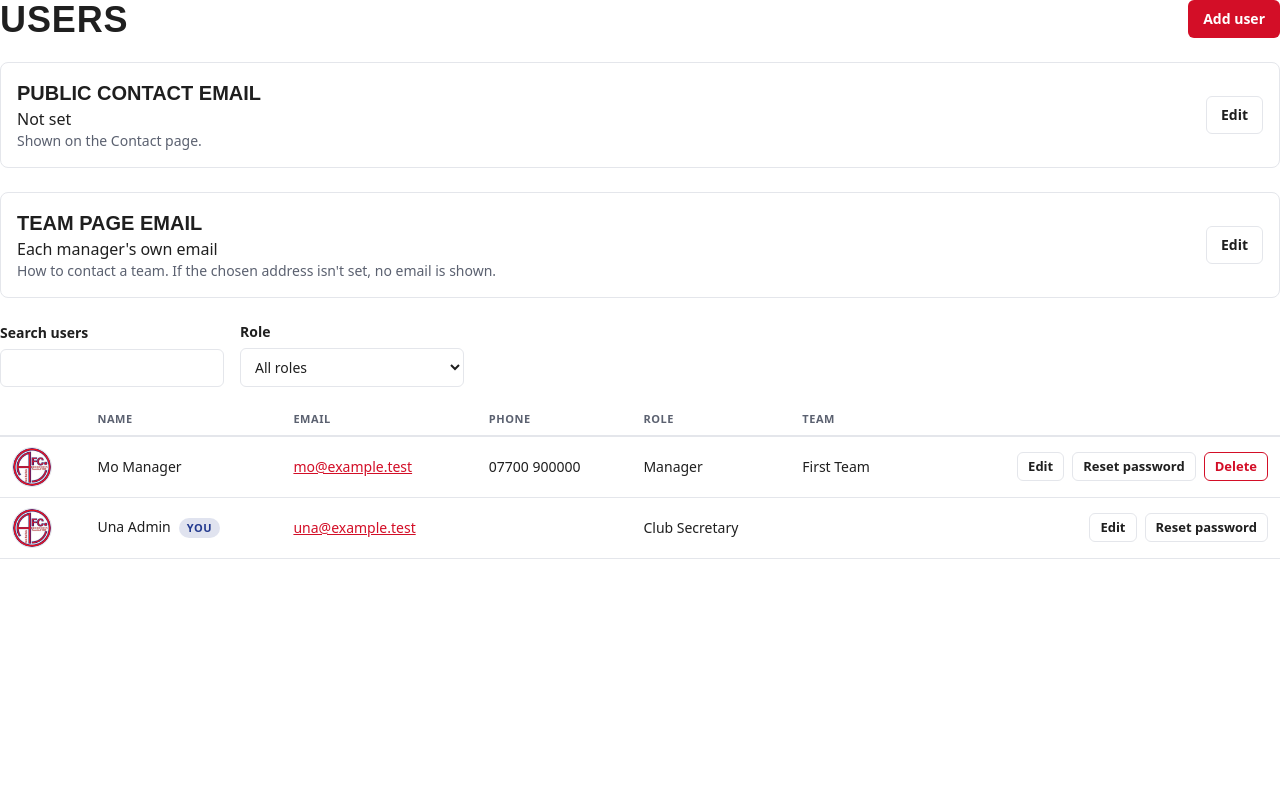
it: Team page email › shows the current choice and saves a new one
Check: the text "Each manager's own email" is shown, box [17,238,218,260]
Click the button with aria-label "Edit team page email".
click(1234, 245)  # box [1206,226,1263,264]
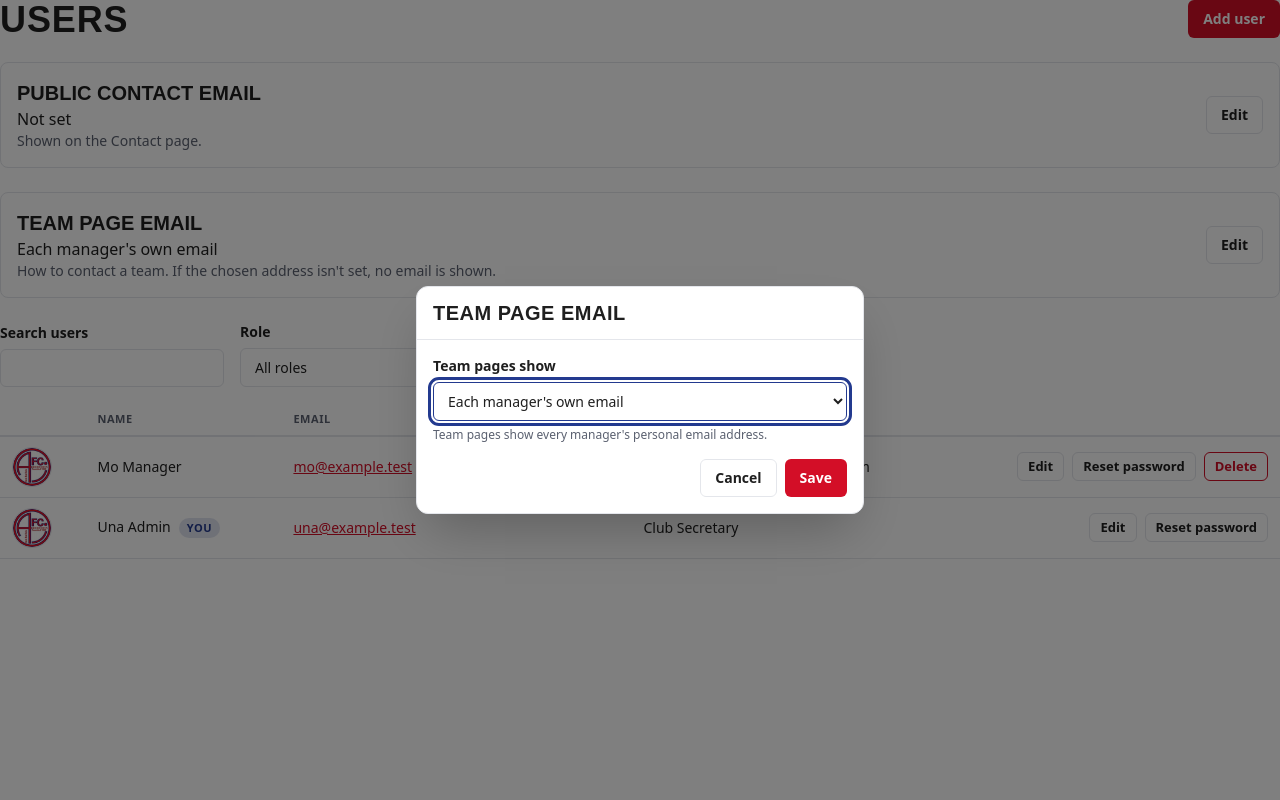
Select "The team's contact email" in the dropdown labelled "Team pages show" at x=640, y=402, box [433,382,847,421]
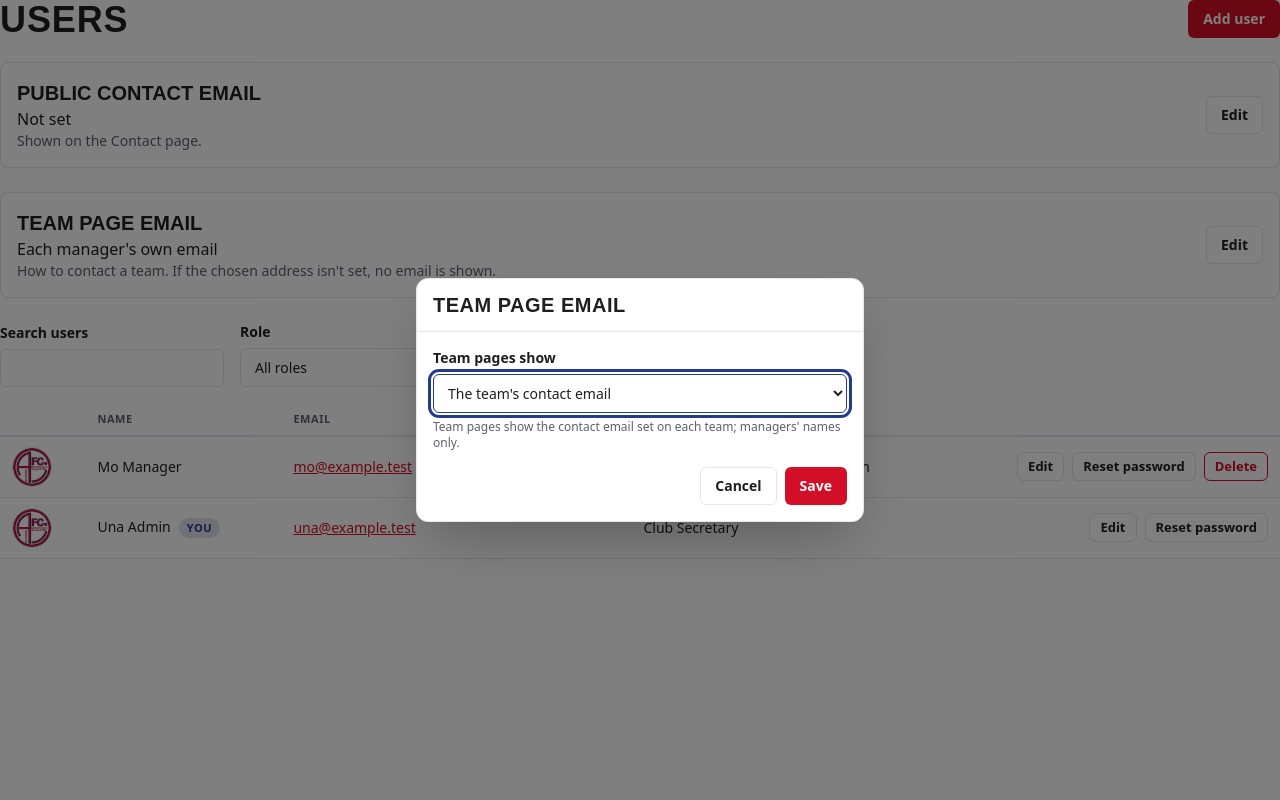
Click the button "Save".
click(816, 486)  # box [785,467,847,505]
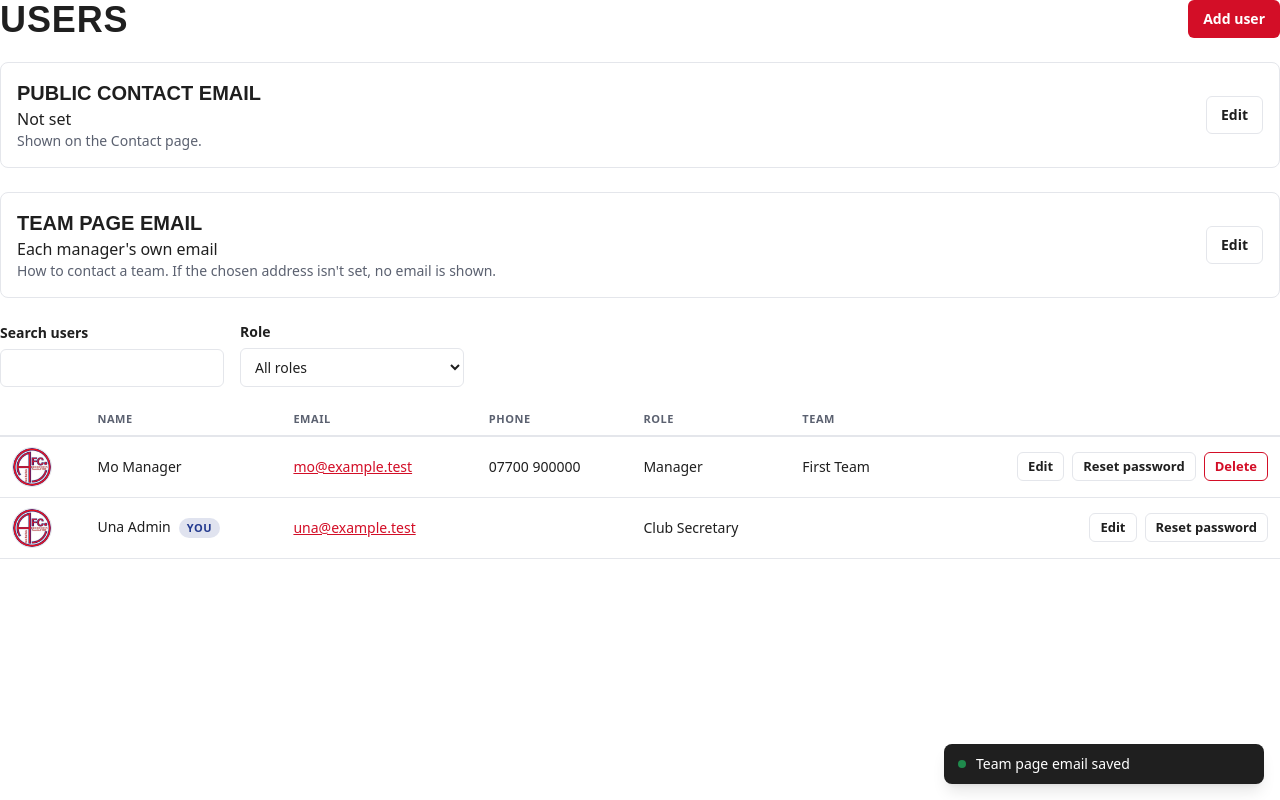
Check: the button "Team page email saved" is shown, box [944,744,1264,784]
